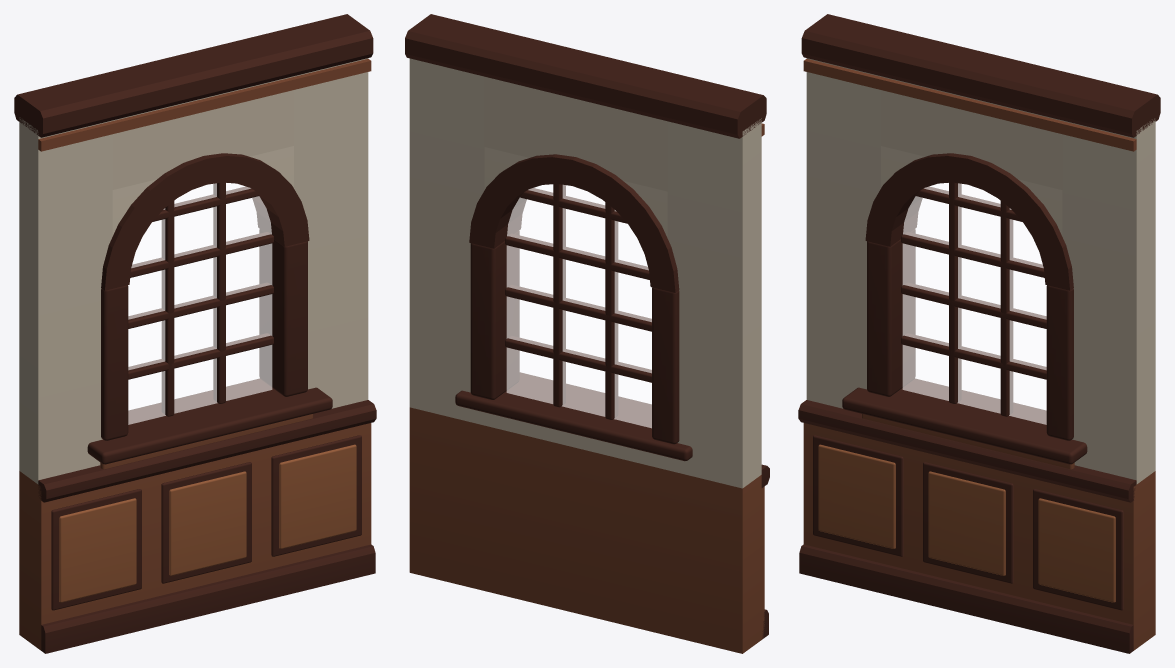
File: wall-window.glb
3 views of the same model, side by side, from view 1: azimuth 30°, elevation 25°; view 2: azimuth 150°, elevation 25°; view 3: azimuth 330°, elevation 25° (orthographic).
Parts seen in each view (by area): view 1: wall-window; view 2: wall-window; view 3: wall-window.
Boxes of the visible parts, x1=… form: wall-window: x1=14, y1=14, x2=376, y2=653; wall-window: x1=405, y1=14, x2=769, y2=653; wall-window: x1=798, y1=14, x2=1160, y2=653.
Size of the model in its own units: 2 by 3.12 by 0.42.
